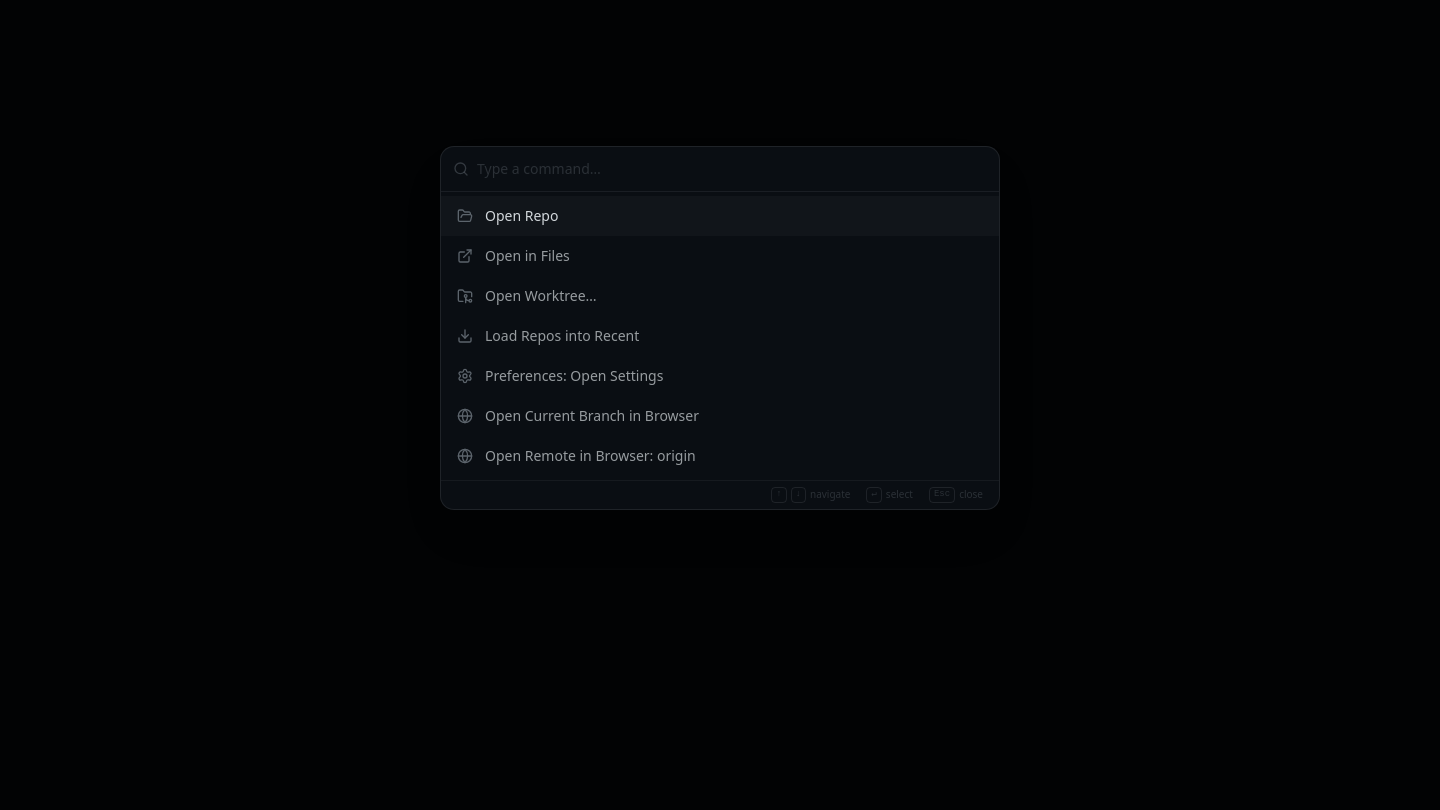
Scenario: CommandPalette — open in browser › explains instead of opening when the current branch isn't pushed
The width and height of the screenshot is (1440, 810).
Click the button "Open Current Branch in Browser" at (592, 415), box x1=441 y1=396 x2=999 y2=436
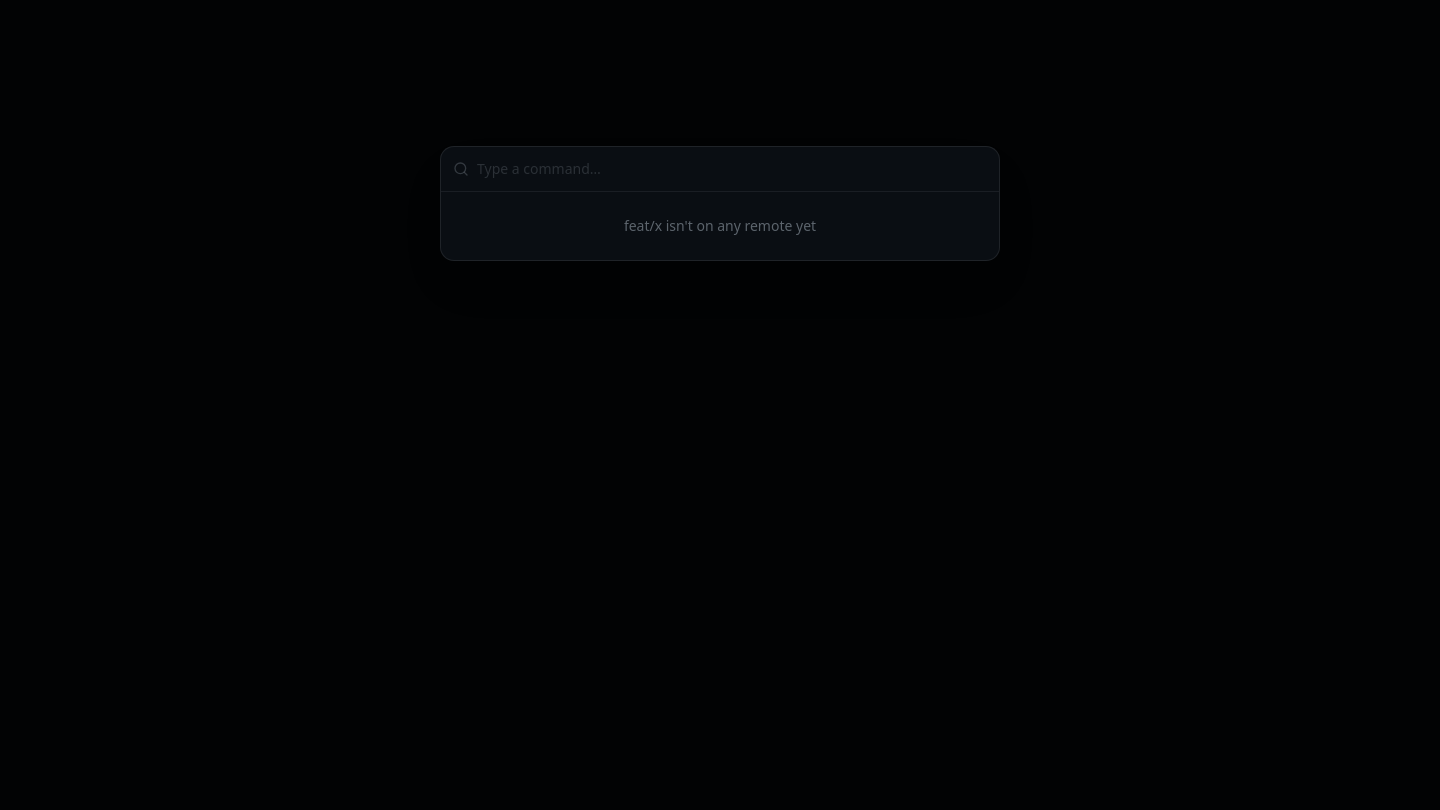
Expected: the text "feat/x isn't on any remote yet" is shown, x1=624 y1=216 x2=816 y2=235
